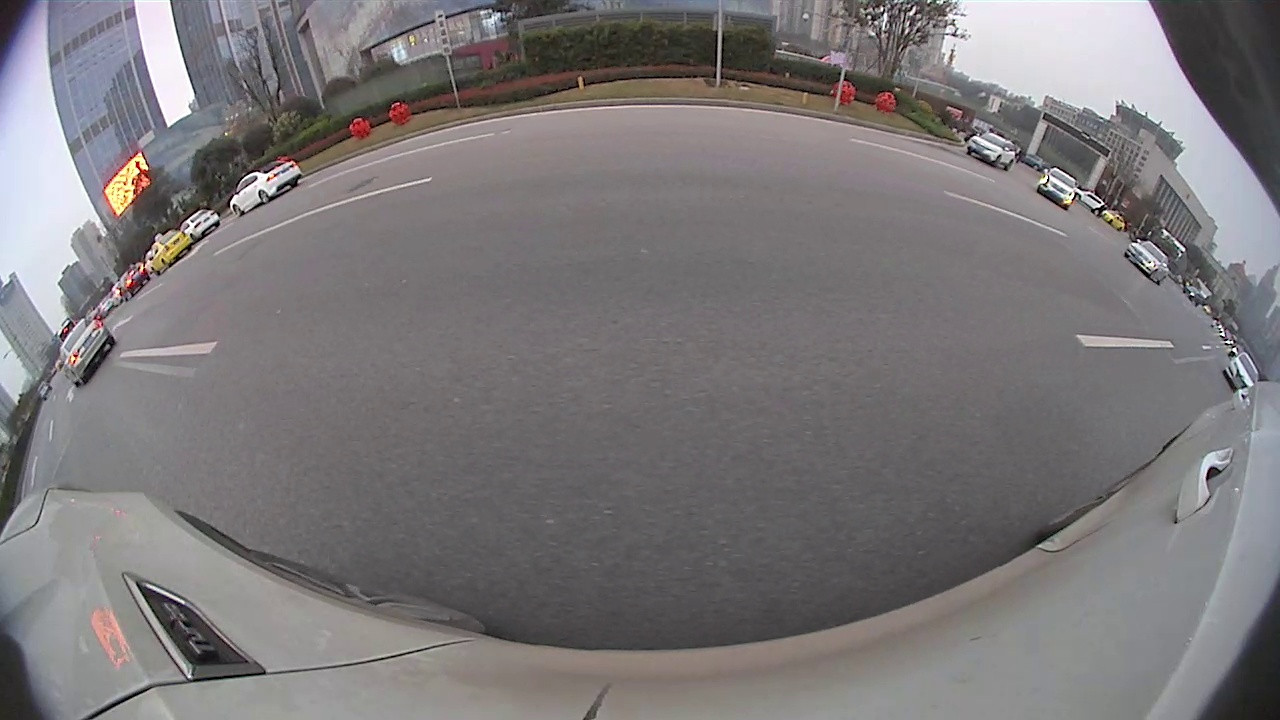car: (227, 159, 306, 220), (58, 317, 119, 386), (146, 226, 193, 273), (967, 130, 1017, 172), (1125, 237, 1170, 282), (1040, 164, 1081, 209), (1223, 349, 1257, 394), (181, 207, 222, 243)
front: (231, 203, 244, 220)
rear: (258, 190, 273, 205), (289, 178, 299, 188)
